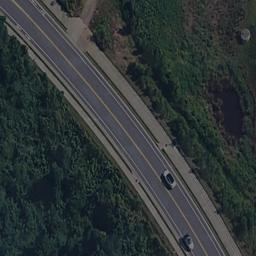Car: (158, 166, 177, 189), (181, 233, 194, 252)
Double Solid Yellow Line: (92, 90, 125, 131), (59, 53, 89, 87), (127, 136, 154, 168), (171, 195, 190, 230), (10, 3, 33, 21), (36, 28, 55, 46)
